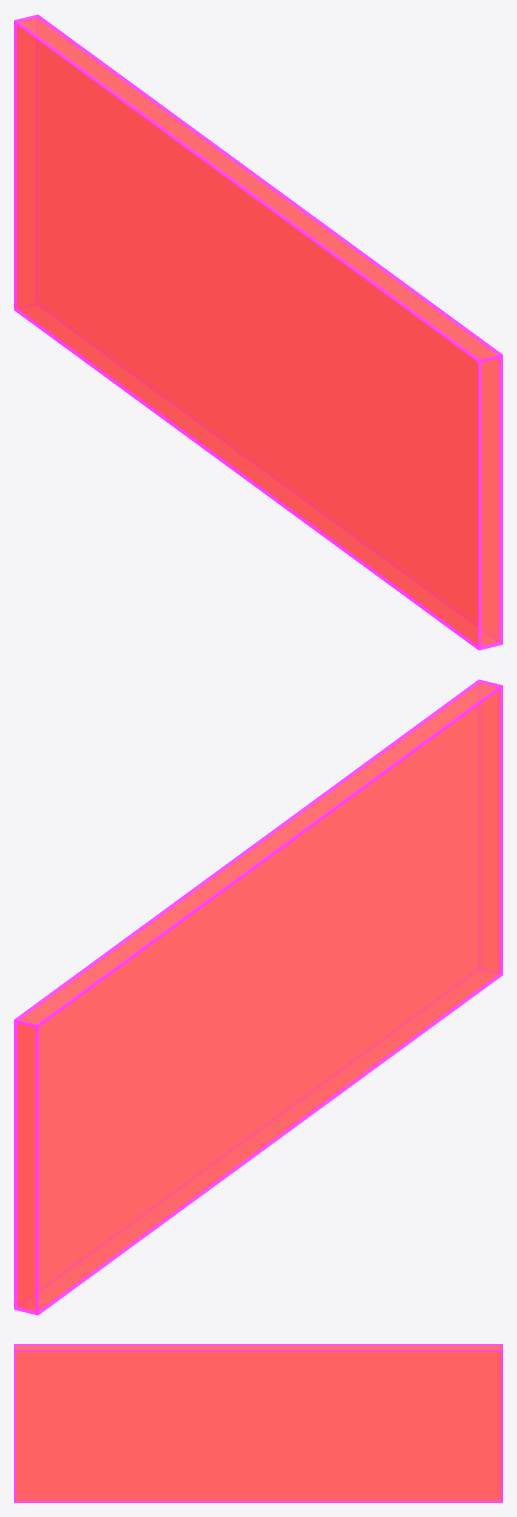
Rendered from WallCube.fbx.
3 views of the same model, one above another, from view 1: azimuth 30°, elevation 25°; view 2: azimuth 150°, elevation 25°; view 3: azimuth 270°, elevation 25° (orthographic). The views are drawn at different scales.
Visible parts, largest first — view 1: WallCube, WallCube2; view 2: WallCube, WallCube2; view 3: WallCube, WallCube2.
Part boxes in pixels (box(x1,y1,x2,y2)): WallCube: box(17, 17, 499, 645); WallCube2: box(14, 14, 502, 650); WallCube: box(17, 682, 499, 1310); WallCube2: box(14, 679, 502, 1315); WallCube: box(16, 1345, 500, 1500); WallCube2: box(14, 1344, 502, 1502).
Bounding box in the file's own units: 17.56 × 202 × 586.
